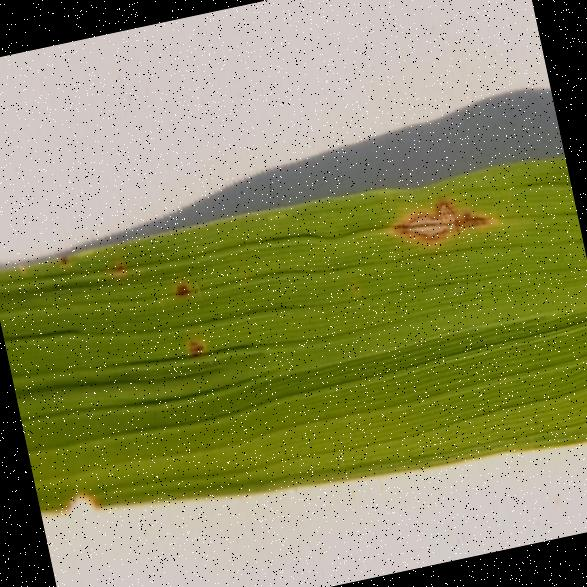Brown_Spot: (376, 146, 528, 274), (156, 247, 214, 327), (173, 316, 218, 392)
